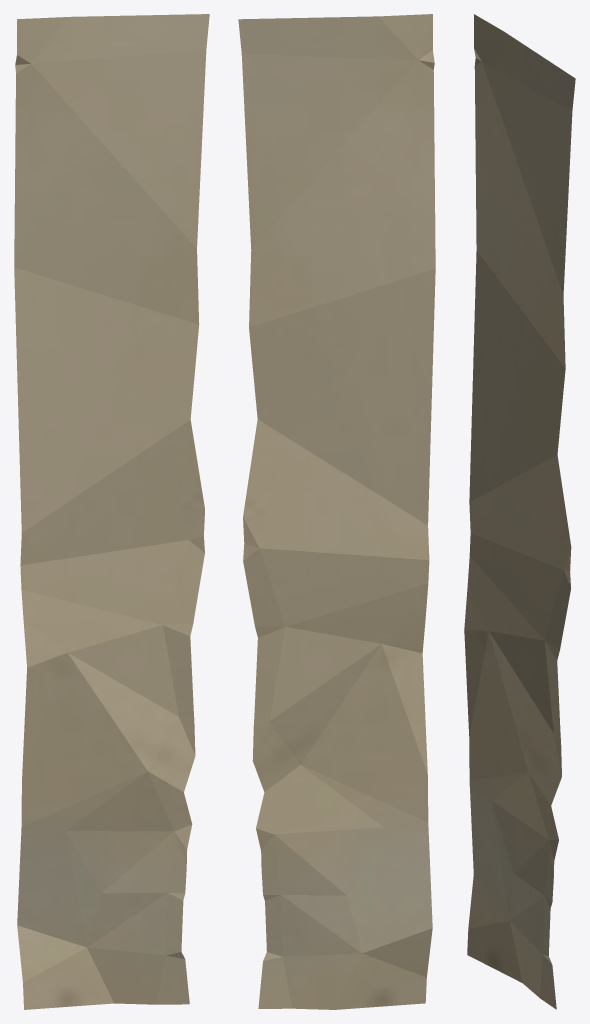
3 renders of one model, left to right at view 1: azimuth 30°, elevation 25°; view 2: azimuth 210°, elevation 25°; view 3: azimuth 330°, elevation 25°, orthographic. The views are drawn at different scales.
Bounding box in the file's own units: 0.2667 × 1.67 × 0.1404.
1 material, 1 textured.
